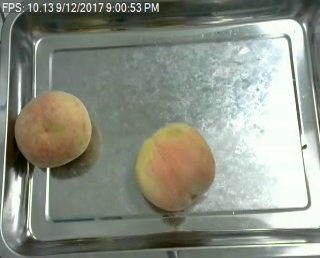Peach: (135, 122, 215, 212), (14, 88, 93, 168)
